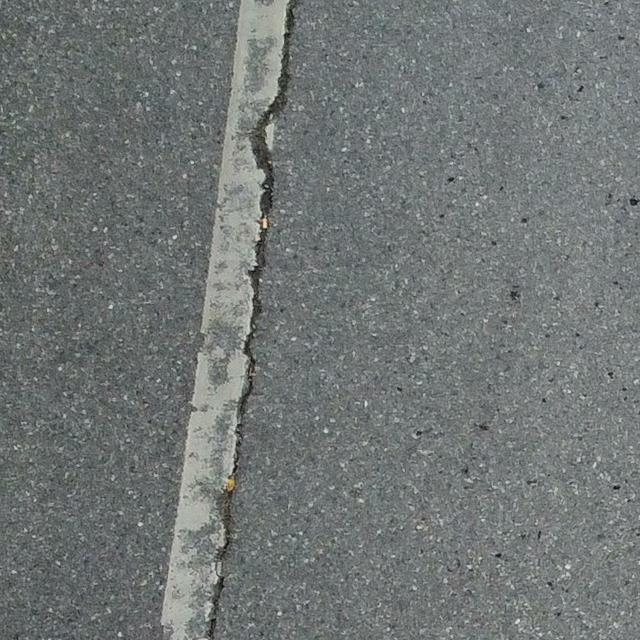LongitudinalCrack: (206, 1, 306, 638)
